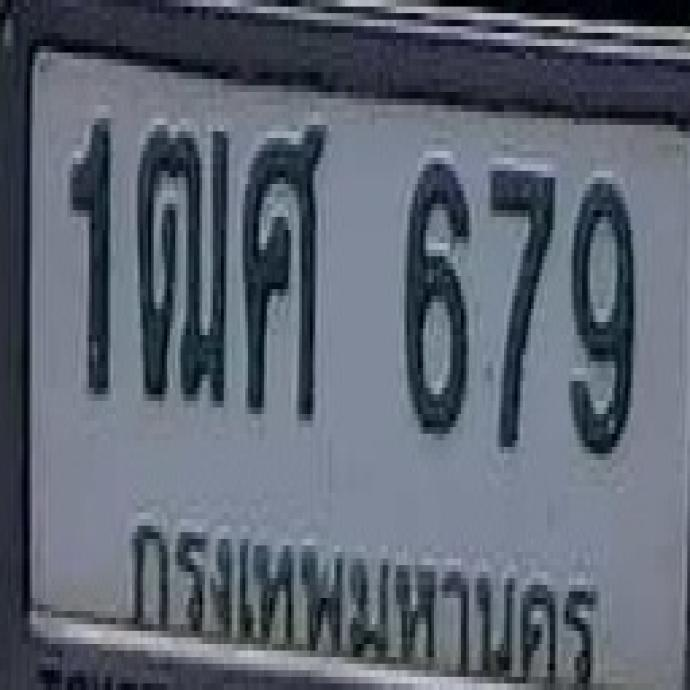1: (68, 113, 110, 395)
6: (403, 157, 467, 432)
7: (487, 166, 553, 450)
9: (567, 176, 633, 455)
A18: (135, 121, 228, 399)
A38: (241, 118, 323, 416)
BKK: (116, 497, 608, 688)
